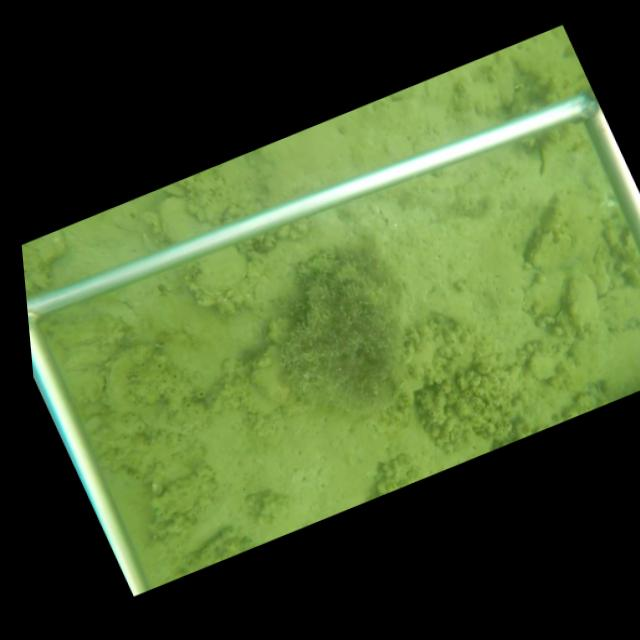Oyster-Closed: (103, 339, 153, 409), (192, 245, 251, 299), (252, 344, 295, 406), (526, 229, 575, 273)
Oyster-Indeterminate: (153, 196, 215, 243)
Oyster-Open: (560, 272, 601, 336), (260, 314, 307, 343), (618, 226, 633, 252)
